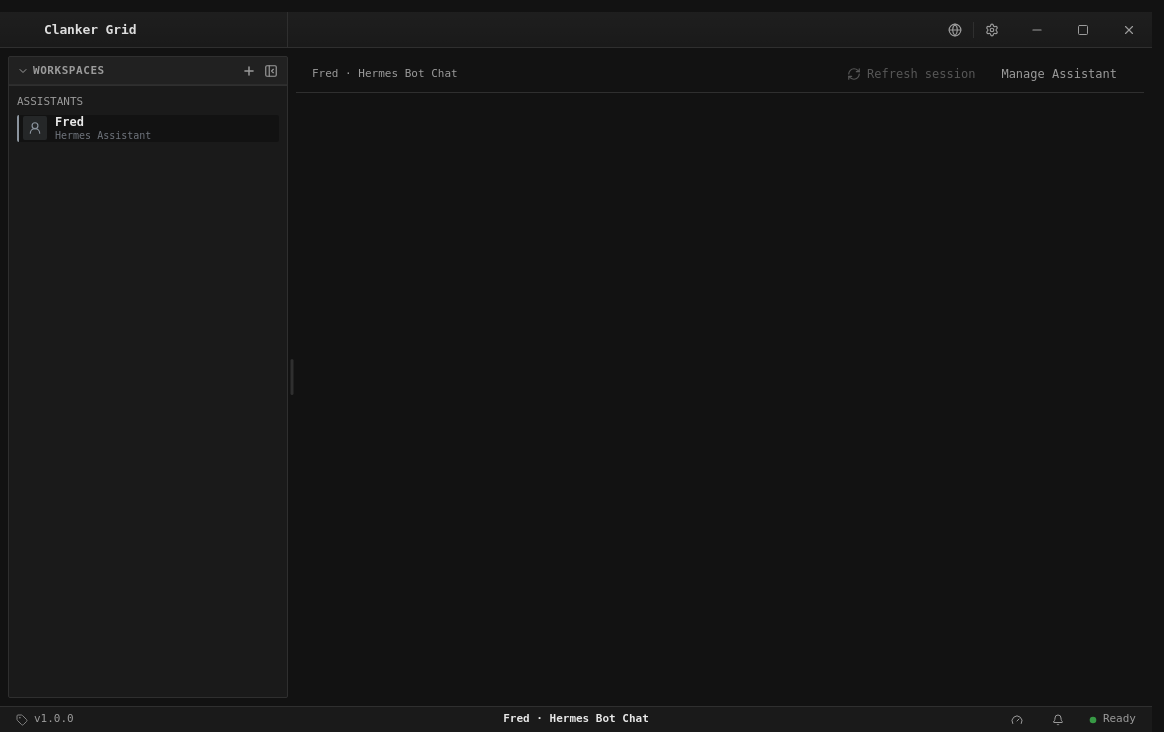
Test case: transitions while Fred is active › disabling Assistants with zero workspaces clears Assistant state and shows the empty workspace state
Click the button named "Toggle browser panel": (955, 30) [943,18,967,42]
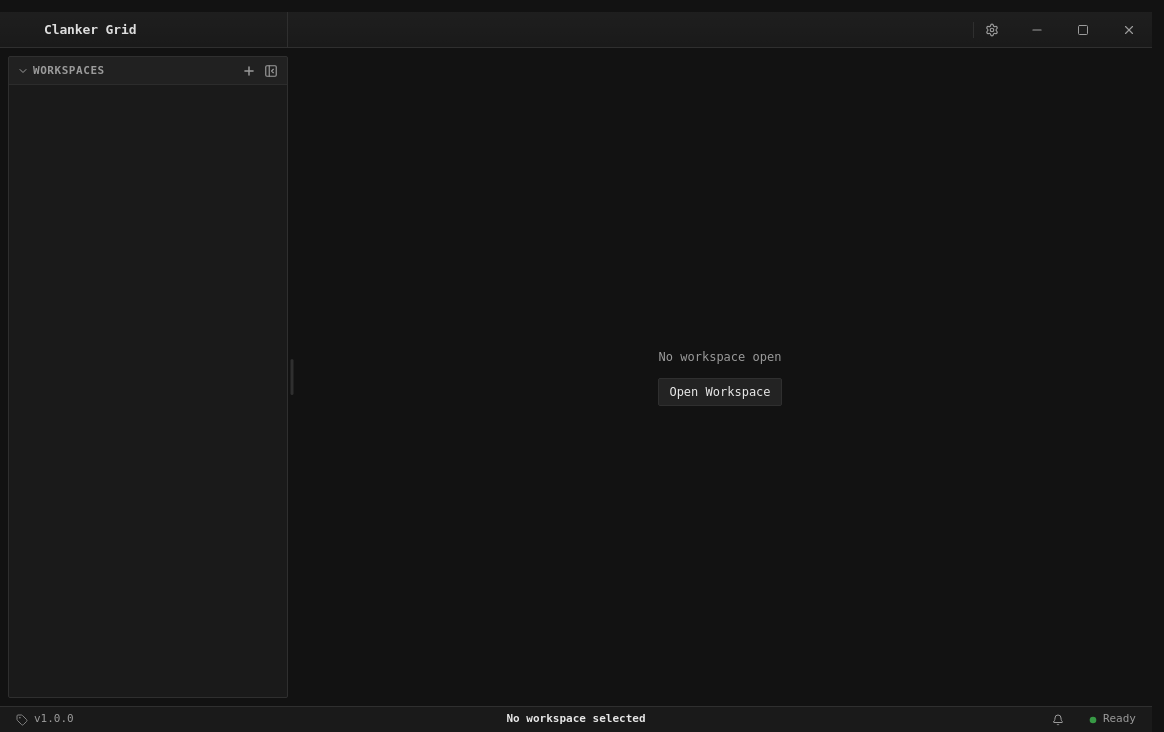
Now the text "Assistants" is gone
